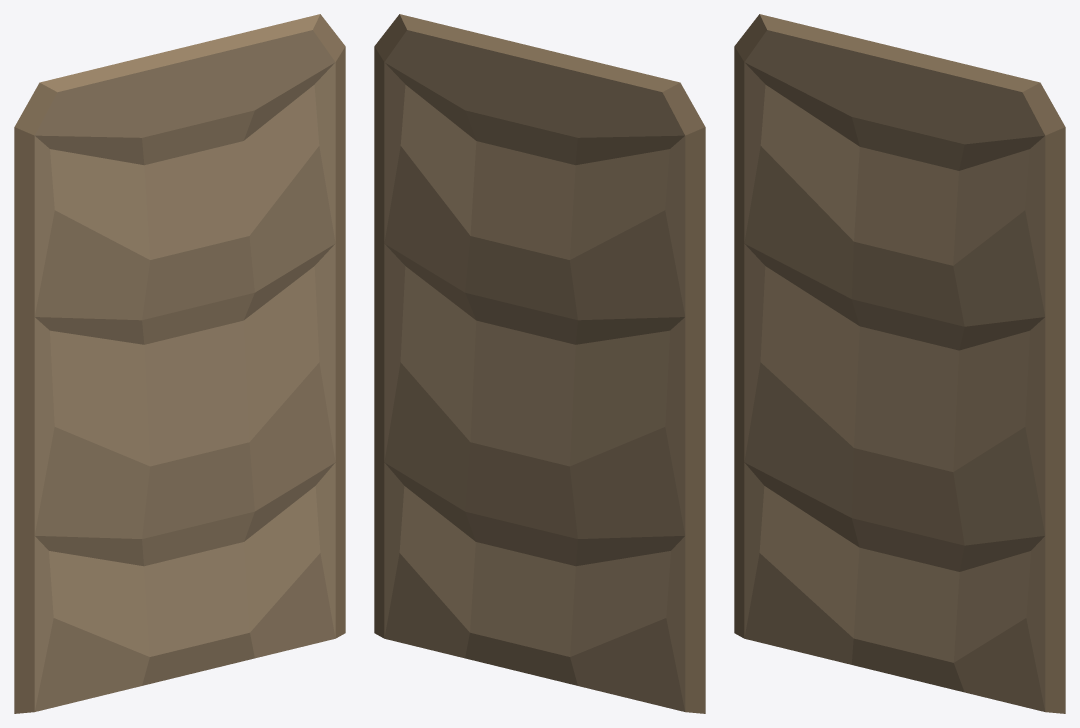
The model's file is SM_Bld_Tent_Door_02.fbx.
3 views of the same model, side by side, from view 1: azimuth 30°, elevation 25°; view 2: azimuth 150°, elevation 25°; view 3: azimuth 330°, elevation 25° (orthographic).
Visible parts, largest first — view 1: SM_Bld_Tent_Door_02; view 2: SM_Bld_Tent_Door_02; view 3: SM_Bld_Tent_Door_02.
Part boxes in pixels (<box>): SM_Bld_Tent_Door_02: <box>14,14,345,713</box>; SM_Bld_Tent_Door_02: <box>374,14,705,713</box>; SM_Bld_Tent_Door_02: <box>734,14,1065,713</box>.
Bounding box in the file's own units: 125 × 225 × 10.61.
